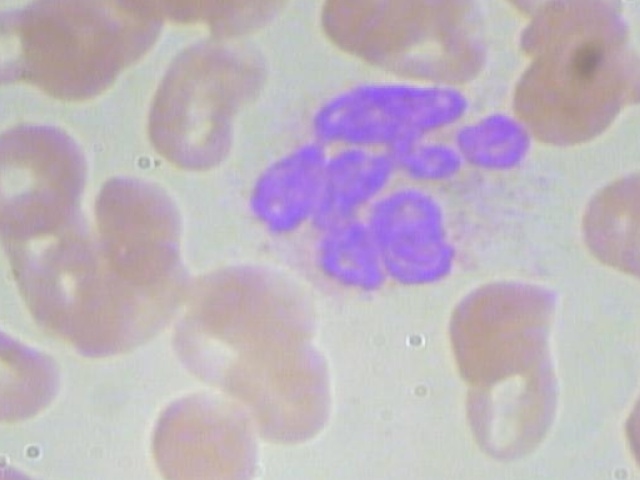RBC: (140, 29, 271, 174), (220, 330, 343, 457), (510, 35, 640, 149), (191, 250, 324, 351), (446, 276, 564, 384), (449, 353, 567, 461), (87, 165, 191, 287), (359, 0, 496, 87), (139, 386, 262, 480), (11, 0, 126, 100), (15, 227, 112, 332), (0, 118, 84, 238), (576, 164, 640, 281), (0, 312, 64, 426)
WBC: (217, 73, 577, 295)
